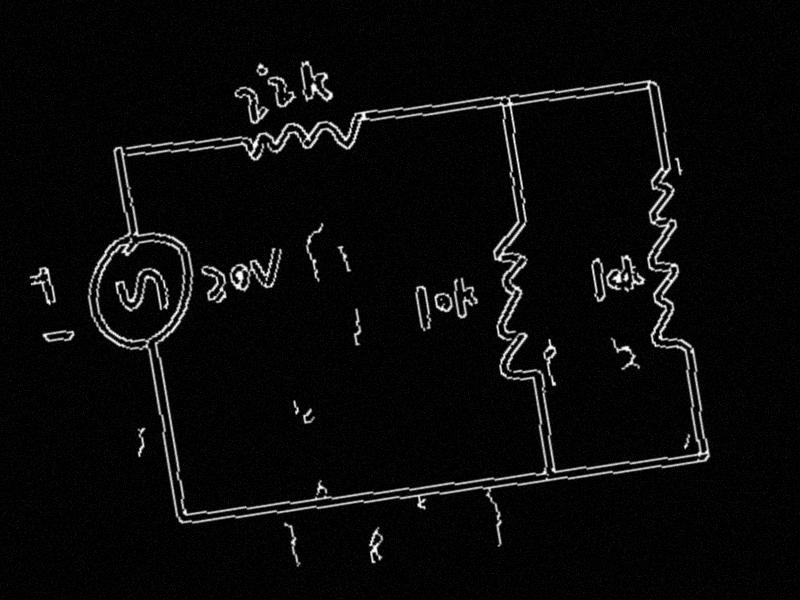-: (40, 324, 78, 348)
0: (225, 259, 254, 294), (602, 265, 629, 296), (430, 287, 454, 315)
1: (409, 282, 434, 334), (586, 254, 611, 306), (528, 367, 529, 368)
2: (230, 80, 273, 129), (198, 259, 232, 310), (265, 71, 300, 112)
V: (247, 244, 290, 291)
k: (295, 56, 336, 109), (449, 271, 482, 321), (618, 250, 648, 295)
